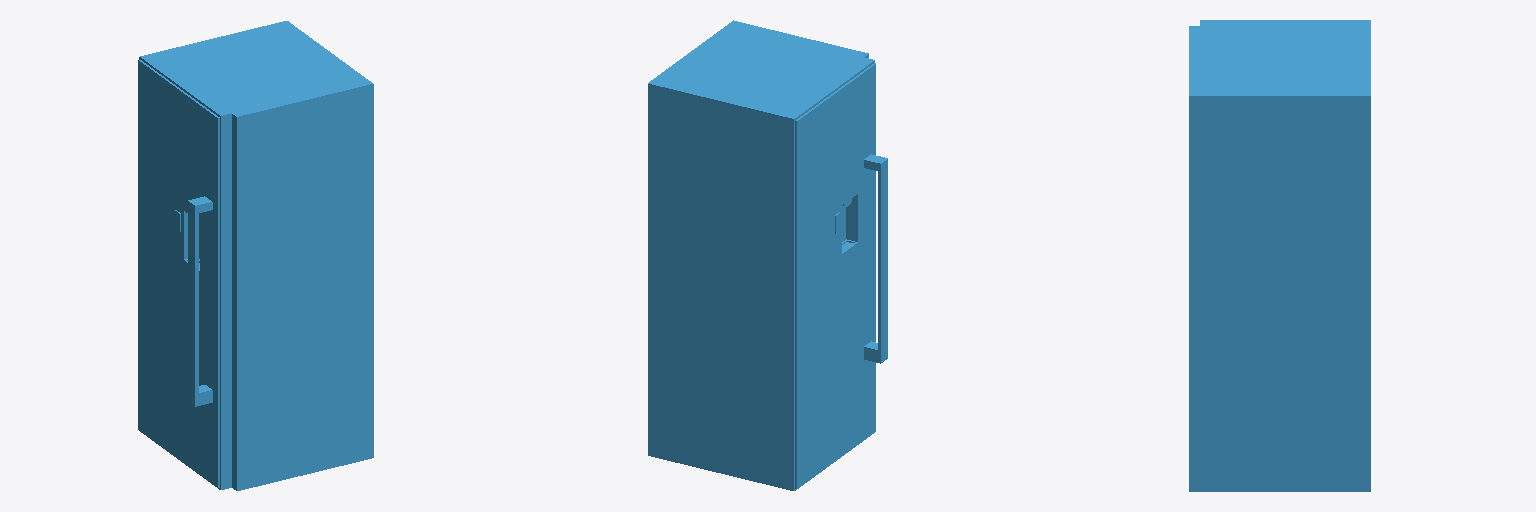
The robot description file, URDF, robot "partnet_9af7a071bbd432baa5526f91aecc0c37":
<?xml version="1.0" ?>
<robot name="partnet_9af7a071bbd432baa5526f91aecc0c37">
	<link name="base"/>
	<!-- <link name="link_0"> -->
	<!-- 	<visual name="drawer_front-61"> -->
	<!-- 		<origin xyz="0 0 0"/> -->
	<!-- 		<geometry> -->
	<!-- 			<mesh filename="textured_objs/original-16.obj"/> -->
	<!-- 		</geometry> -->
	<!-- 	</visual> -->
	<!-- 	<visual name="drawer_side-62"> -->
	<!-- 		<origin xyz="0 0 0"/> -->
	<!-- 		<geometry> -->
	<!-- 			<mesh filename="textured_objs/original-18.obj"/> -->
	<!-- 		</geometry> -->
	<!-- 	</visual> -->
	<!-- 	<visual name="drawer_side-62"> -->
	<!-- 		<origin xyz="0 0 0"/> -->
	<!-- 		<geometry> -->
	<!-- 			<mesh filename="textured_objs/original-37.obj"/> -->
	<!-- 		</geometry> -->
	<!-- 	</visual> -->
	<!-- 	<visual name="drawer_side-62"> -->
	<!-- 		<origin xyz="0 0 0"/> -->
	<!-- 		<geometry> -->
	<!-- 			<mesh filename="textured_objs/original-25.obj"/> -->
	<!-- 		</geometry> -->
	<!-- 	</visual> -->
	<!-- 	<visual name="drawer_side-62"> -->
	<!-- 		<origin xyz="0 0 0"/> -->
	<!-- 		<geometry> -->
	<!-- 			<mesh filename="textured_objs/original-23.obj"/> -->
	<!-- 		</geometry> -->
	<!-- 	</visual> -->
	<!-- 	<visual name="drawer_side-62"> -->
	<!-- 		<origin xyz="0 0 0"/> -->
	<!-- 		<geometry> -->
	<!-- 			<mesh filename="textured_objs/original-22.obj"/> -->
	<!-- 		</geometry> -->
	<!-- 	</visual> -->
	<!-- 	<visual name="drawer_side-62"> -->
	<!-- 		<origin xyz="0 0 0"/> -->
	<!-- 		<geometry> -->
	<!-- 			<mesh filename="textured_objs/original-20.obj"/> -->
	<!-- 		</geometry> -->
	<!-- 	</visual> -->
	<!-- 	<visual name="drawer_side-62"> -->
	<!-- 		<origin xyz="0 0 0"/> -->
	<!-- 		<geometry> -->
	<!-- 			<mesh filename="textured_objs/original-24.obj"/> -->
	<!-- 		</geometry> -->
	<!-- 	</visual> -->
	<!-- 	<visual name="drawer_side-63"> -->
	<!-- 		<origin xyz="0 0 0"/> -->
	<!-- 		<geometry> -->
	<!-- 			<mesh filename="textured_objs/original-17.obj"/> -->
	<!-- 		</geometry> -->
	<!-- 	</visual> -->
	<!-- 	<visual name="drawer_back-64"> -->
	<!-- 		<origin xyz="0 0 0"/> -->
	<!-- 		<geometry> -->
	<!-- 			<mesh filename="textured_objs/original-19.obj"/> -->
	<!-- 		</geometry> -->
	<!-- 	</visual> -->
	<!-- 	<visual name="drawer_bottom-65"> -->
	<!-- 		<origin xyz="0 0 0"/> -->
	<!-- 		<geometry> -->
	<!-- 			<mesh filename="textured_objs/original-21.obj"/> -->
	<!-- 		</geometry> -->
	<!-- 	</visual> -->
	<!-- 	<collision> -->
	<!-- 		<origin xyz="0 0 0"/> -->
	<!-- 		<geometry> -->
	<!-- 			<mesh filename="textured_objs/original-16.obj"/> -->
	<!-- 		</geometry> -->
	<!-- 	</collision> -->
	<!-- 	<collision> -->
	<!-- 		<origin xyz="0 0 0"/> -->
	<!-- 		<geometry> -->
	<!-- 			<mesh filename="textured_objs/original-18.obj"/> -->
	<!-- 		</geometry> -->
	<!-- 	</collision> -->
	<!-- 	<collision> -->
	<!-- 		<origin xyz="0 0 0"/> -->
	<!-- 		<geometry> -->
	<!-- 			<mesh filename="textured_objs/original-37.obj"/> -->
	<!-- 		</geometry> -->
	<!-- 	</collision> -->
	<!-- 	<collision> -->
	<!-- 		<origin xyz="0 0 0"/> -->
	<!-- 		<geometry> -->
	<!-- 			<mesh filename="textured_objs/original-25.obj"/> -->
	<!-- 		</geometry> -->
	<!-- 	</collision> -->
	<!-- 	<collision> -->
	<!-- 		<origin xyz="0 0 0"/> -->
	<!-- 		<geometry> -->
	<!-- 			<mesh filename="textured_objs/original-23.obj"/> -->
	<!-- 		</geometry> -->
	<!-- 	</collision> -->
	<!-- 	<collision> -->
	<!-- 		<origin xyz="0 0 0"/> -->
	<!-- 		<geometry> -->
	<!-- 			<mesh filename="textured_objs/original-22.obj"/> -->
	<!-- 		</geometry> -->
	<!-- 	</collision> -->
	<!-- 	<collision> -->
	<!-- 		<origin xyz="0 0 0"/> -->
	<!-- 		<geometry> -->
	<!-- 			<mesh filename="textured_objs/original-20.obj"/> -->
	<!-- 		</geometry> -->
	<!-- 	</collision> -->
	<!-- 	<collision> -->
	<!-- 		<origin xyz="0 0 0"/> -->
	<!-- 		<geometry> -->
	<!-- 			<mesh filename="textured_objs/original-24.obj"/> -->
	<!-- 		</geometry> -->
	<!-- 	</collision> -->
	<!-- 	<collision> -->
	<!-- 		<origin xyz="0 0 0"/> -->
	<!-- 		<geometry> -->
	<!-- 			<mesh filename="textured_objs/original-17.obj"/> -->
	<!-- 		</geometry> -->
	<!-- 	</collision> -->
	<!-- 	<collision> -->
	<!-- 		<origin xyz="0 0 0"/> -->
	<!-- 		<geometry> -->
	<!-- 			<mesh filename="textured_objs/original-19.obj"/> -->
	<!-- 		</geometry> -->
	<!-- 	</collision> -->
	<!-- 	<collision> -->
	<!-- 		<origin xyz="0 0 0"/> -->
	<!-- 		<geometry> -->
	<!-- 			<mesh filename="textured_objs/original-21.obj"/> -->
	<!-- 		</geometry> -->
	<!-- 	</collision> -->
	<!-- </link> -->
	<!-- <joint name="joint_0" type="prismatic"> -->
	<!-- 	<origin xyz="0 0 0"/> -->
	<!-- 	<axis xyz="0 0 -1"/> -->
	<!-- 	<child link="link_0"/> -->
	<!-- 	<parent link="link_3"/> -->
	<!-- 	<limit lower="0" upper="0.252"/> -->
	<!-- </joint> -->
	<!-- <link name="link_1"> -->
	<!-- 	<visual name="drawer_front-55"> -->
	<!-- 		<origin xyz="0 0 0"/> -->
	<!-- 		<geometry> -->
	<!-- 			<mesh filename="textured_objs/original-27.obj"/> -->
	<!-- 		</geometry> -->
	<!-- 	</visual> -->
	<!-- 	<visual name="drawer_side-56"> -->
	<!-- 		<origin xyz="0 0 0"/> -->
	<!-- 		<geometry> -->
	<!-- 			<mesh filename="textured_objs/original-28.obj"/> -->
	<!-- 		</geometry> -->
	<!-- 	</visual> -->
	<!-- 	<visual name="drawer_side-57"> -->
	<!-- 		<origin xyz="0 0 0"/> -->
	<!-- 		<geometry> -->
	<!-- 			<mesh filename="textured_objs/original-29.obj"/> -->
	<!-- 		</geometry> -->
	<!-- 	</visual> -->
	<!-- 	<visual name="drawer_back-58"> -->
	<!-- 		<origin xyz="0 0 0"/> -->
	<!-- 		<geometry> -->
	<!-- 			<mesh filename="textured_objs/original-30.obj"/> -->
	<!-- 		</geometry> -->
	<!-- 	</visual> -->
	<!-- 	<visual name="drawer_bottom-59"> -->
	<!-- 		<origin xyz="0 0 0"/> -->
	<!-- 		<geometry> -->
	<!-- 			<mesh filename="textured_objs/original-31.obj"/> -->
	<!-- 		</geometry> -->
	<!-- 	</visual> -->
	<!-- 	<collision> -->
	<!-- 		<origin xyz="0 0 0"/> -->
	<!-- 		<geometry> -->
	<!-- 			<mesh filename="textured_objs/original-27.obj"/> -->
	<!-- 		</geometry> -->
	<!-- 	</collision> -->
	<!-- 	<collision> -->
	<!-- 		<origin xyz="0 0 0"/> -->
	<!-- 		<geometry> -->
	<!-- 			<mesh filename="textured_objs/original-28.obj"/> -->
	<!-- 		</geometry> -->
	<!-- 	</collision> -->
	<!-- 	<collision> -->
	<!-- 		<origin xyz="0 0 0"/> -->
	<!-- 		<geometry> -->
	<!-- 			<mesh filename="textured_objs/original-29.obj"/> -->
	<!-- 		</geometry> -->
	<!-- 	</collision> -->
	<!-- 	<collision> -->
	<!-- 		<origin xyz="0 0 0"/> -->
	<!-- 		<geometry> -->
	<!-- 			<mesh filename="textured_objs/original-30.obj"/> -->
	<!-- 		</geometry> -->
	<!-- 	</collision> -->
	<!-- 	<collision> -->
	<!-- 		<origin xyz="0 0 0"/> -->
	<!-- 		<geometry> -->
	<!-- 			<mesh filename="textured_objs/original-31.obj"/> -->
	<!-- 		</geometry> -->
	<!-- 	</collision> -->
	<!-- </link> -->
	<!-- <joint name="joint_1" type="prismatic"> -->
	<!-- 	<origin xyz="0 0 0"/> -->
	<!-- 	<axis xyz="0 0 -1"/> -->
	<!-- 	<child link="link_1"/> -->
	<!-- 	<parent link="link_3"/> -->
	<!-- 	<limit lower="0" upper="0.252"/> -->
	<!-- </joint> -->
	<!-- <link name="link_2"> -->
	<!-- 	<visual name="drawer_front-47"> -->
	<!-- 		<origin xyz="0 0 0"/> -->
	<!-- 		<geometry> -->
	<!-- 			<mesh filename="textured_objs/original-8.obj"/> -->
	<!-- 		</geometry> -->
	<!-- 	</visual> -->
	<!-- 	<visual name="drawer_side-48"> -->
	<!-- 		<origin xyz="0 0 0"/> -->
	<!-- 		<geometry> -->
	<!-- 			<mesh filename="textured_objs/original-9.obj"/> -->
	<!-- 		</geometry> -->
	<!-- 	</visual> -->
	<!-- 	<visual name="drawer_side-49"> -->
	<!-- 		<origin xyz="0 0 0"/> -->
	<!-- 		<geometry> -->
	<!-- 			<mesh filename="textured_objs/original-10.obj"/> -->
	<!-- 		</geometry> -->
	<!-- 	</visual> -->
	<!-- 	<visual name="drawer_side-49"> -->
	<!-- 		<origin xyz="0 0 0"/> -->
	<!-- 		<geometry> -->
	<!-- 			<mesh filename="textured_objs/original-33.obj"/> -->
	<!-- 		</geometry> -->
	<!-- 	</visual> -->
	<!-- 	<visual name="drawer_side-49"> -->
	<!-- 		<origin xyz="0 0 0"/> -->
	<!-- 		<geometry> -->
	<!-- 			<mesh filename="textured_objs/original-14.obj"/> -->
	<!-- 		</geometry> -->
	<!-- 	</visual> -->
	<!-- 	<visual name="drawer_side-49"> -->
	<!-- 		<origin xyz="0 0 0"/> -->
	<!-- 		<geometry> -->
	<!-- 			<mesh filename="textured_objs/original-12.obj"/> -->
	<!-- 		</geometry> -->
	<!-- 	</visual> -->
	<!-- 	<visual name="drawer_back-50"> -->
	<!-- 		<origin xyz="0 0 0"/> -->
	<!-- 		<geometry> -->
	<!-- 			<mesh filename="textured_objs/original-11.obj"/> -->
	<!-- 		</geometry> -->
	<!-- 	</visual> -->
	<!-- 	<visual name="drawer_bottom-51"> -->
	<!-- 		<origin xyz="0 0 0"/> -->
	<!-- 		<geometry> -->
	<!-- 			<mesh filename="textured_objs/original-13.obj"/> -->
	<!-- 		</geometry> -->
	<!-- 	</visual> -->
	<!-- 	<collision> -->
	<!-- 		<origin xyz="0 0 0"/> -->
	<!-- 		<geometry> -->
	<!-- 			<mesh filename="textured_objs/original-8.obj"/> -->
	<!-- 		</geometry> -->
	<!-- 	</collision> -->
	<!-- 	<collision> -->
	<!-- 		<origin xyz="0 0 0"/> -->
	<!-- 		<geometry> -->
	<!-- 			<mesh filename="textured_objs/original-9.obj"/> -->
	<!-- 		</geometry> -->
	<!-- 	</collision> -->
	<!-- 	<collision> -->
	<!-- 		<origin xyz="0 0 0"/> -->
	<!-- 		<geometry> -->
	<!-- 			<mesh filename="textured_objs/original-10.obj"/> -->
	<!-- 		</geometry> -->
	<!-- 	</collision> -->
	<!-- 	<collision> -->
	<!-- 		<origin xyz="0 0 0"/> -->
	<!-- 		<geometry> -->
	<!-- 			<mesh filename="textured_objs/original-33.obj"/> -->
	<!-- 		</geometry> -->
	<!-- 	</collision> -->
	<!-- 	<collision> -->
	<!-- 		<origin xyz="0 0 0"/> -->
	<!-- 		<geometry> -->
	<!-- 			<mesh filename="textured_objs/original-14.obj"/> -->
	<!-- 		</geometry> -->
	<!-- 	</collision> -->
	<!-- 	<collision> -->
	<!-- 		<origin xyz="0 0 0"/> -->
	<!-- 		<geometry> -->
	<!-- 			<mesh filename="textured_objs/original-12.obj"/> -->
	<!-- 		</geometry> -->
	<!-- 	</collision> -->
	<!-- 	<collision> -->
	<!-- 		<origin xyz="0 0 0"/> -->
	<!-- 		<geometry> -->
	<!-- 			<mesh filename="textured_objs/original-11.obj"/> -->
	<!-- 		</geometry> -->
	<!-- 	</collision> -->
	<!-- 	<collision> -->
	<!-- 		<origin xyz="0 0 0"/> -->
	<!-- 		<geometry> -->
	<!-- 			<mesh filename="textured_objs/original-13.obj"/> -->
	<!-- 		</geometry> -->
	<!-- 	</collision> -->
	<!-- </link> -->
	<!-- <joint name="joint_2" type="prismatic"> -->
	<!-- 	<origin xyz="0 0 0"/> -->
	<!-- 	<axis xyz="0 0 -1"/> -->
	<!-- 	<child link="link_2"/> -->
	<!-- 	<parent link="link_3"/> -->
	<!-- 	<limit lower="0" upper="0.252"/> -->
	<!-- </joint> -->
	<link name="link_3">
		<visual name="board-74">
			<origin xyz="0 0 0"/>
			<geometry>
				<mesh filename="textured_objs/new-12.obj"/>
			</geometry>
		</visual>
		<visual name="board-74">
			<origin xyz="0 0 0"/>
			<geometry>
				<mesh filename="textured_objs/new-14.obj"/>
			</geometry>
		</visual>
		<visual name="bar-76">
			<origin xyz="0 0 0"/>
			<geometry>
				<mesh filename="textured_objs/new-13.obj"/>
			</geometry>
		</visual>
		<visual name="bar-77">
			<origin xyz="0 0 0"/>
			<geometry>
				<mesh filename="textured_objs/new-7.obj"/>
			</geometry>
		</visual>
		<visual name="bar-77">
			<origin xyz="0 0 0"/>
			<geometry>
				<mesh filename="textured_objs/new-10.obj"/>
			</geometry>
		</visual>
		<visual name="bar-78">
			<origin xyz="0 0 0"/>
			<geometry>
				<mesh filename="textured_objs/new-6.obj"/>
			</geometry>
		</visual>
		<visual name="bar-78">
			<origin xyz="0 0 0"/>
			<geometry>
				<mesh filename="textured_objs/new-11.obj"/>
			</geometry>
		</visual>
		<visual name="bar-79">
			<origin xyz="0 0 0"/>
			<geometry>
				<mesh filename="textured_objs/new-9.obj"/>
			</geometry>
		</visual>
		<visual name="bar-79">
			<origin xyz="0 0 0"/>
			<geometry>
				<mesh filename="textured_objs/new-5.obj"/>
			</geometry>
		</visual>
		<visual name="leg-34">
			<origin xyz="0 0 0"/>
			<geometry>
				<mesh filename="textured_objs/new-2.obj"/>
			</geometry>
		</visual>
		<visual name="leg-35">
			<origin xyz="0 0 0"/>
			<geometry>
				<mesh filename="textured_objs/new-3.obj"/>
			</geometry>
		</visual>
		<visual name="leg-36">
			<origin xyz="0 0 0"/>
			<geometry>
				<mesh filename="textured_objs/new-1.obj"/>
			</geometry>
		</visual>
		<visual name="leg-37">
			<origin xyz="0 0 0"/>
			<geometry>
				<mesh filename="textured_objs/new-0.obj"/>
			</geometry>
		</visual>
		<visual name="tabletop_connector-41">
			<origin xyz="0 0 0"/>
			<geometry>
				<mesh filename="textured_objs/original-2.obj"/>
			</geometry>
		</visual>
		<visual name="tabletop_connector-41">
			<origin xyz="0 0 0"/>
			<geometry>
				<mesh filename="textured_objs/original-3.obj"/>
			</geometry>
		</visual>
		<visual name="tabletop_connector-42">
			<origin xyz="0 0 0"/>
			<geometry>
				<mesh filename="textured_objs/original-5.obj"/>
			</geometry>
		</visual>
		<visual name="tabletop_connector-42">
			<origin xyz="0 0 0"/>
			<geometry>
				<mesh filename="textured_objs/original-4.obj"/>
			</geometry>
		</visual>
		<visual name="tabletop_connector-43">
			<origin xyz="0 0 0"/>
			<geometry>
				<mesh filename="textured_objs/new-4.obj"/>
			</geometry>
		</visual>
		<visual name="tabletop_connector-66">
			<origin xyz="0 0 0"/>
			<geometry>
				<mesh filename="textured_objs/original-32.obj"/>
			</geometry>
		</visual>
		<visual name="tabletop_connector-67">
			<origin xyz="0 0 0"/>
			<geometry>
				<mesh filename="textured_objs/original-34.obj"/>
			</geometry>
		</visual>
		<visual name="tabletop_connector-68">
			<origin xyz="0 0 0"/>
			<geometry>
				<mesh filename="textured_objs/original-35.obj"/>
			</geometry>
		</visual>
		<visual name="tabletop_connector-69">
			<origin xyz="0 0 0"/>
			<geometry>
				<mesh filename="textured_objs/original-36.obj"/>
			</geometry>
		</visual>
		<collision>
			<origin xyz="0 0 0"/>
			<geometry>
				<mesh filename="textured_objs/new-12.obj"/>
			</geometry>
		</collision>
		<collision>
			<origin xyz="0 0 0"/>
			<geometry>
				<mesh filename="textured_objs/new-14.obj"/>
			</geometry>
		</collision>
		<collision>
			<origin xyz="0 0 0"/>
			<geometry>
				<mesh filename="textured_objs/new-13.obj"/>
			</geometry>
		</collision>
		<collision>
			<origin xyz="0 0 0"/>
			<geometry>
				<mesh filename="textured_objs/new-7.obj"/>
			</geometry>
		</collision>
		<collision>
			<origin xyz="0 0 0"/>
			<geometry>
				<mesh filename="textured_objs/new-10.obj"/>
			</geometry>
		</collision>
		<collision>
			<origin xyz="0 0 0"/>
			<geometry>
				<mesh filename="textured_objs/new-6.obj"/>
			</geometry>
		</collision>
		<collision>
			<origin xyz="0 0 0"/>
			<geometry>
				<mesh filename="textured_objs/new-11.obj"/>
			</geometry>
		</collision>
		<collision>
			<origin xyz="0 0 0"/>
			<geometry>
				<mesh filename="textured_objs/new-9.obj"/>
			</geometry>
		</collision>
		<collision>
			<origin xyz="0 0 0"/>
			<geometry>
				<mesh filename="textured_objs/new-5.obj"/>
			</geometry>
		</collision>
		<collision>
			<origin xyz="0 0 0"/>
			<geometry>
				<mesh filename="textured_objs/new-2.obj"/>
			</geometry>
		</collision>
		<collision>
			<origin xyz="0 0 0"/>
			<geometry>
				<mesh filename="textured_objs/new-3.obj"/>
			</geometry>
		</collision>
		<collision>
			<origin xyz="0 0 0"/>
			<geometry>
				<mesh filename="textured_objs/new-1.obj"/>
			</geometry>
		</collision>
		<collision>
			<origin xyz="0 0 0"/>
			<geometry>
				<mesh filename="textured_objs/new-0.obj"/>
			</geometry>
		</collision>
		<collision>
			<origin xyz="0 0 0"/>
			<geometry>
				<mesh filename="textured_objs/original-2.obj"/>
			</geometry>
		</collision>
		<collision>
			<origin xyz="0 0 0"/>
			<geometry>
				<mesh filename="textured_objs/original-3.obj"/>
			</geometry>
		</collision>
		<collision>
			<origin xyz="0 0 0"/>
			<geometry>
				<mesh filename="textured_objs/original-5.obj"/>
			</geometry>
		</collision>
		<collision>
			<origin xyz="0 0 0"/>
			<geometry>
				<mesh filename="textured_objs/original-4.obj"/>
			</geometry>
		</collision>
		<collision>
			<origin xyz="0 0 0"/>
			<geometry>
				<mesh filename="textured_objs/new-4.obj"/>
			</geometry>
		</collision>
		<collision>
			<origin xyz="0 0 0"/>
			<geometry>
				<mesh filename="textured_objs/original-32.obj"/>
			</geometry>
		</collision>
		<collision>
			<origin xyz="0 0 0"/>
			<geometry>
				<mesh filename="textured_objs/original-34.obj"/>
			</geometry>
		</collision>
		<collision>
			<origin xyz="0 0 0"/>
			<geometry>
				<mesh filename="textured_objs/original-35.obj"/>
			</geometry>
		</collision>
		<collision>
			<origin xyz="0 0 0"/>
			<geometry>
				<mesh filename="textured_objs/original-36.obj"/>
			</geometry>
		</collision>
	</link>
	<joint name="joint_3" type="fixed">
		<origin rpy="1.570796326794897 0 -1.570796326794897" xyz="0 0 0"/>
		<child link="link_3"/>
		<parent link="base"/>
	</joint>
</robot>

--- Facts derived from the render (not from the file) ---
The picture shows the robot from 3 angles, left to right: view 1: azimuth 30°, elevation 25°; view 2: azimuth 150°, elevation 25°; view 3: azimuth 270°, elevation 25°; orthographic projection.
Model partnet_9af7a071bbd432baa5526f91aecc0c37 with 2 links and 1 joints (1 fixed), rooted at base, posed all joints at 0.
Visible links, largest first — view 1: link_3; view 2: link_3; view 3: link_3.
Boxes of the visible links, left/top/right/bottom form: link_3: left=138, top=21, right=373, bottom=490; link_3: left=648, top=20, right=887, bottom=490; link_3: left=1189, top=20, right=1370, bottom=491.
Size in the robot's own frame: 0.8179 by 0.7324 by 1.75 metres.
3 mesh visuals loaded from 22 distinct referenced files (3 OBJ); not drawn: 19 (reference not matched to a file when rendering).